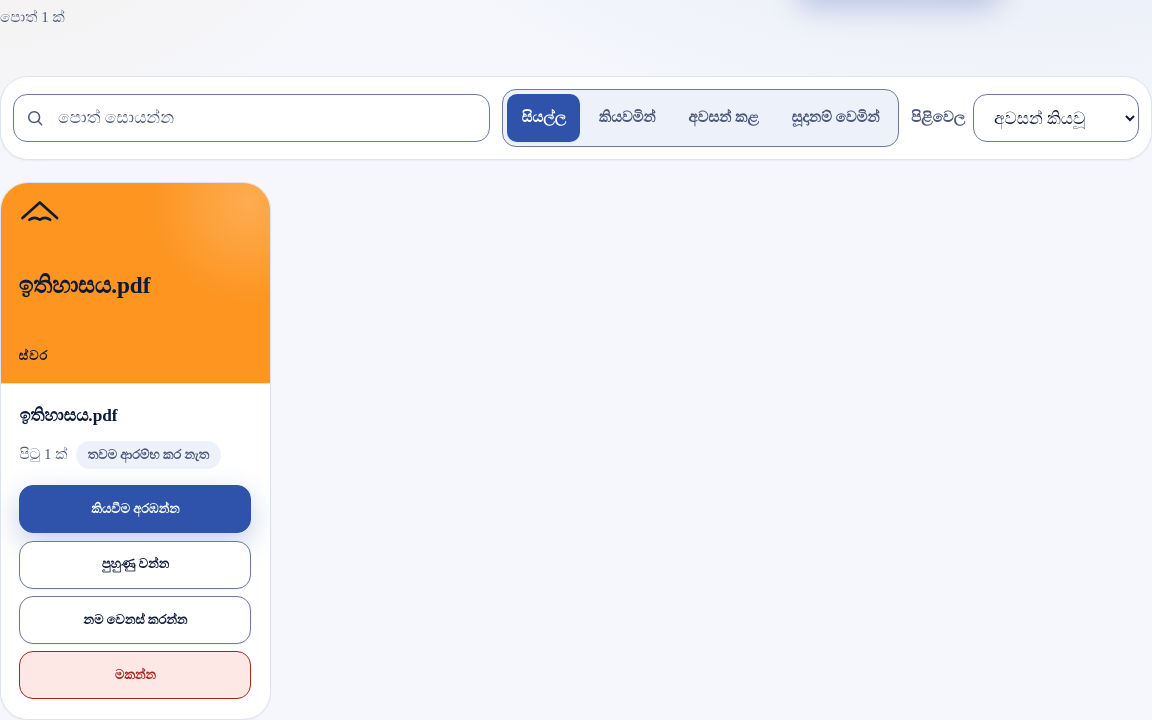
naming a book › saves the reader's own name for it
The image size is (1152, 720).
(page scrolled)
Click the button "නම වෙනස් කරන්න" at x=135, y=620, box [19,596,251,644]
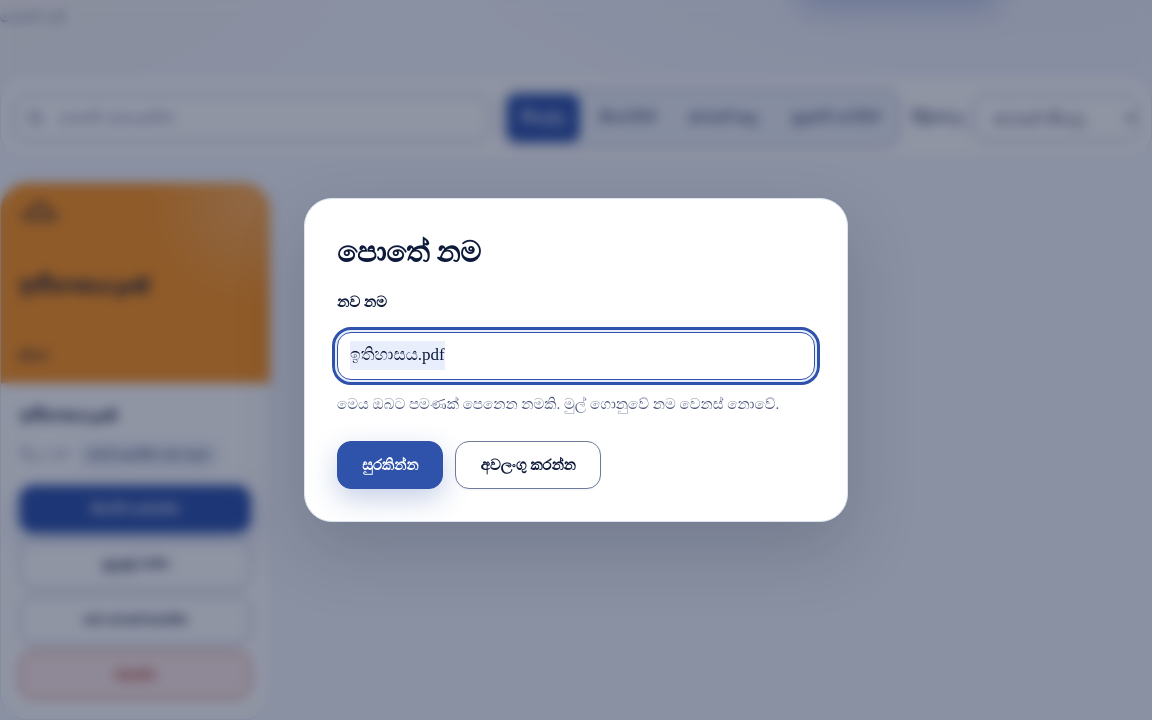
Replace the text in the field labelled "නව නම" with "ඉතිහාසය 11" at x=576, y=356, box [337,332,815,380]
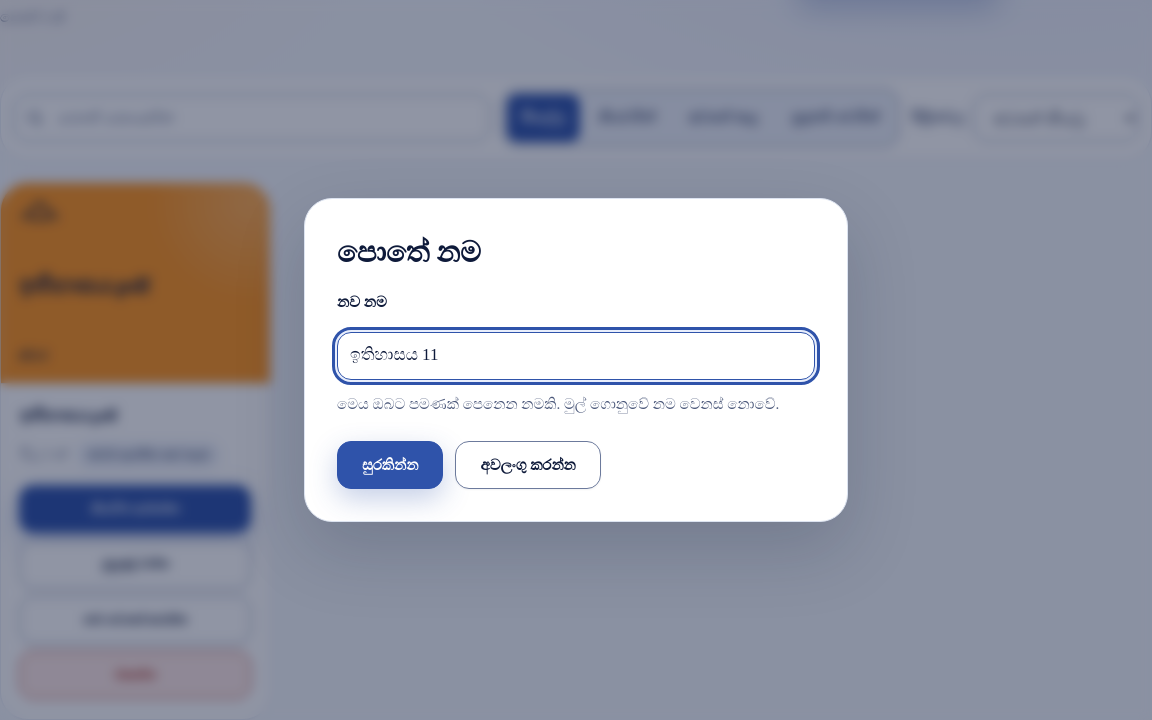
Click the button "සුරකින්න" at x=390, y=465, box [337,441,443,489]
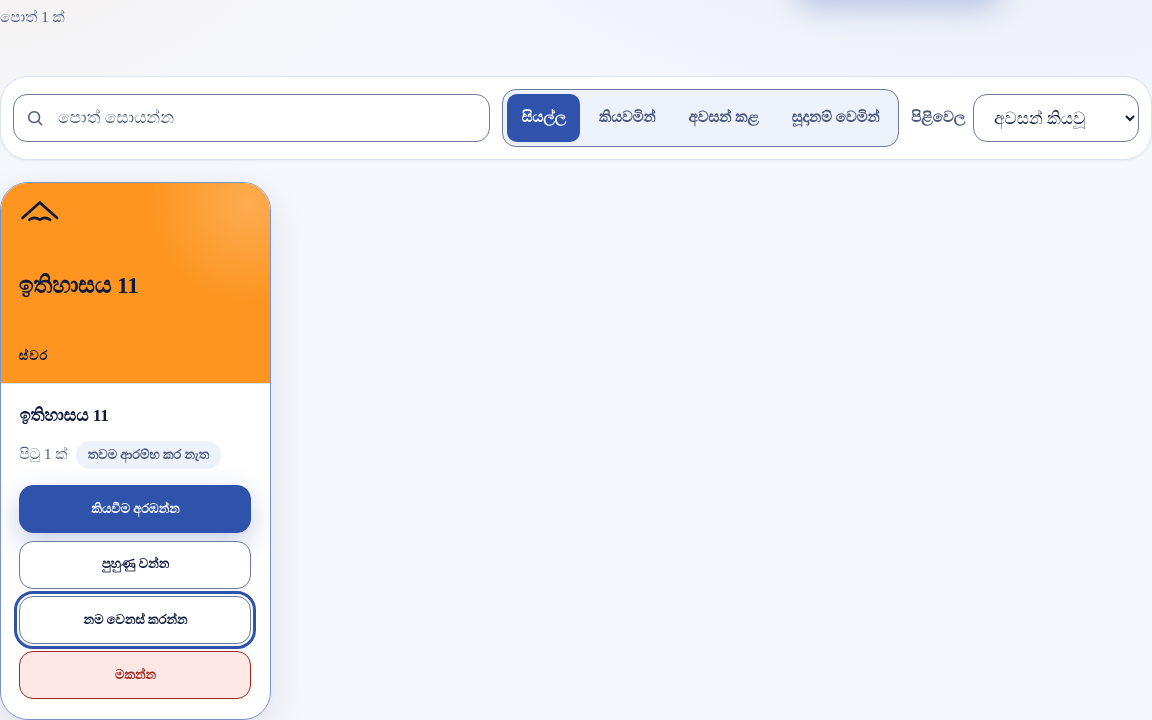
Check: the heading "ඉතිහාසය 11" is shown, box [19,406,109,425]
